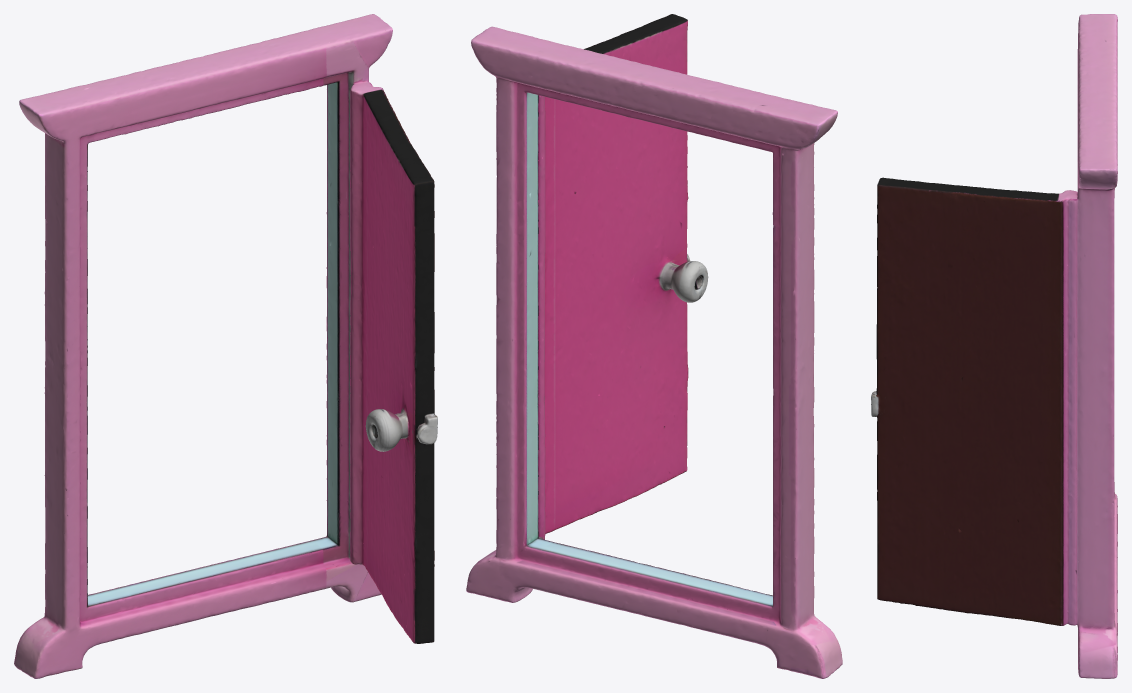
File: door.glb
3 views of the same model, side by side, from view 1: azimuth 30°, elevation 25°; view 2: azimuth 150°, elevation 25°; view 3: azimuth 270°, elevation 25° (orthographic). The views are drawn at different scales.
Bounding box in the file's own units: 1.29 × 1.9 × 0.8387.
Materials: 1 (1 with a texture image).
